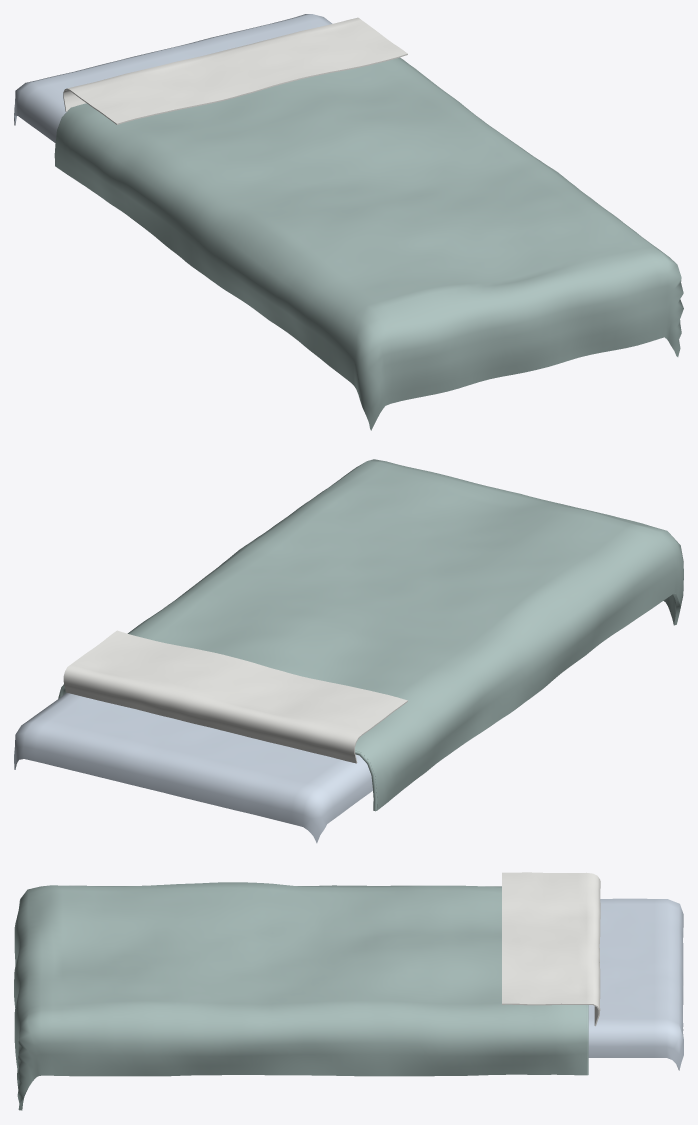
File: textiles_bedding_made.fbx
3 renders of one model, top to bottom at view 1: azimuth 30°, elevation 25°; view 2: azimuth 150°, elevation 25°; view 3: azimuth 270°, elevation 25°, orthographic. The views are drawn at different scales.
Parts seen in each view (by area): view 1: textiles_bedding_made; view 2: textiles_bedding_made; view 3: textiles_bedding_made.
Part boxes in pixels (box(x1,y1,x2,y2)): textiles_bedding_made: box(14, 14, 683, 430); textiles_bedding_made: box(14, 459, 683, 843); textiles_bedding_made: box(14, 872, 683, 1110).
Bounding box in the file's own units: 1.11 × 0.3691 × 2.13.
